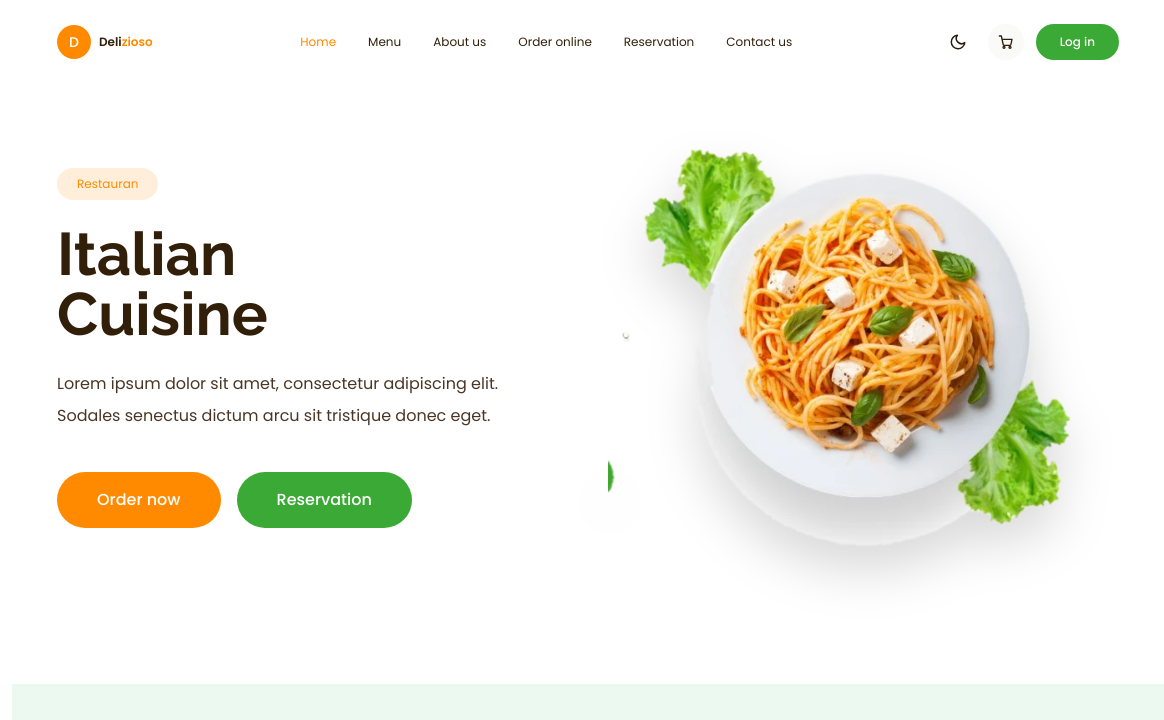
Test: Reservation (issues 3 & 4) › Home 'Reservation' buttons go to the booking form
Click the link "Reservation" below "Cuisine" at (324, 500), box x1=236 y1=472 x2=412 y2=528
(page scrolled)
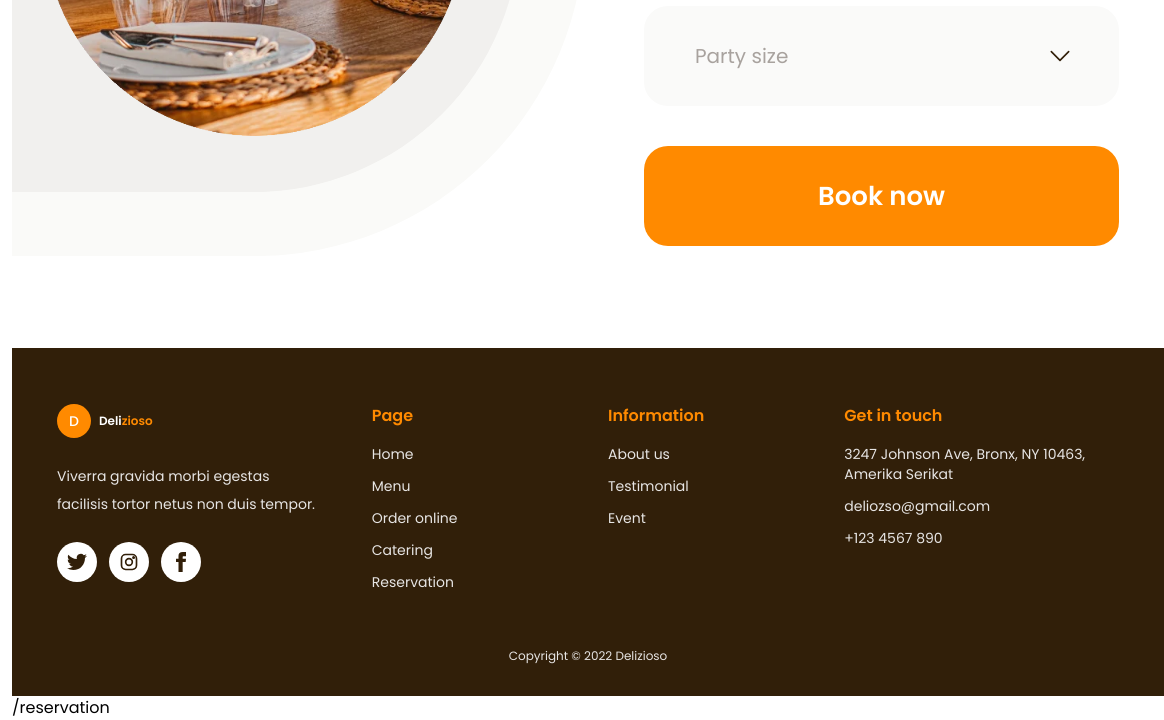
Expected: the text with test id "path" reads "/reservation", x1=12 y1=696 x2=110 y2=719
